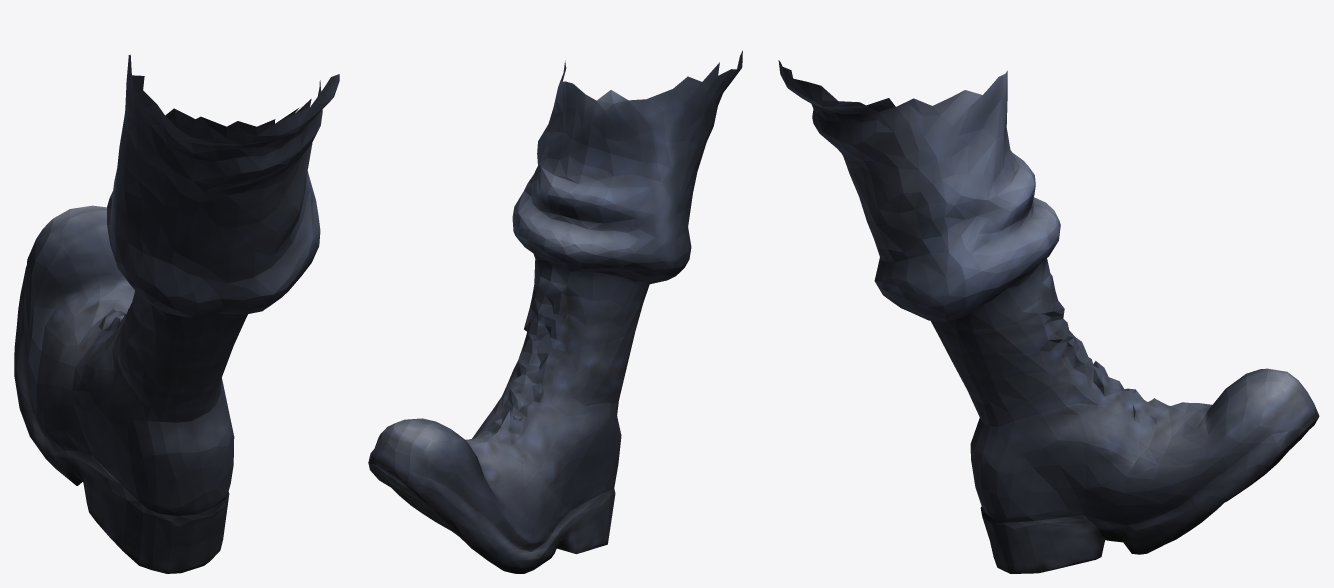
The model's file is leg_r_enemy.glb.
3 renders of one model, left to right at view 1: azimuth 30°, elevation 25°; view 2: azimuth 150°, elevation 25°; view 3: azimuth 270°, elevation 25°, orthographic. The views are drawn at different scales.
Visible parts, largest first — view 1: infantry.glb; view 2: infantry.glb; view 3: infantry.glb.
Boxes of the visible parts, bbox=[...] form: infantry.glb: bbox=[14, 54, 339, 573]; infantry.glb: bbox=[368, 50, 742, 573]; infantry.glb: bbox=[778, 60, 1319, 573].
Bounding box in the file's own units: 0.1326 × 0.3235 × 0.317.
Materials: 1 (1 with a texture image).
